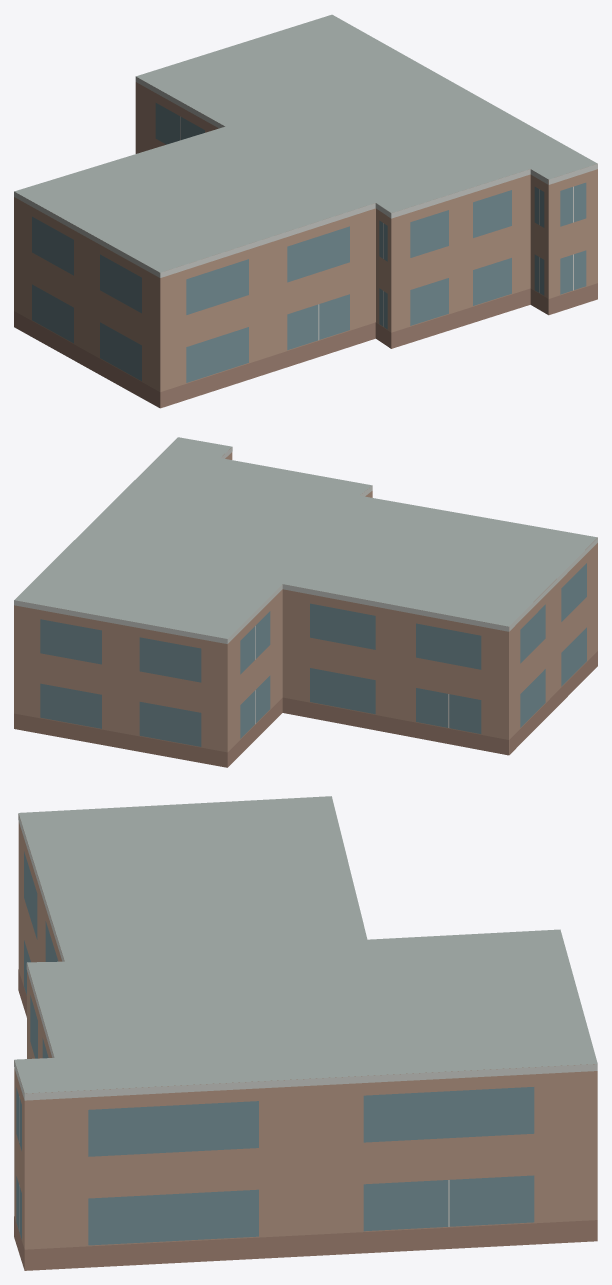
Rendered from survey-upis-32483598.glb.
3 renders of one model, top to bottom at view 1: azimuth 30°, elevation 25°; view 2: azimuth 150°, elevation 25°; view 3: azimuth 270°, elevation 25°, orthographic. The views are drawn at different scales.
Visible parts, largest first — view 1: survey-upis-32483598.tmp; view 2: survey-upis-32483598.tmp; view 3: survey-upis-32483598.tmp.
Boxes of the visible parts, x1=… form: survey-upis-32483598.tmp: x1=14, y1=14, x2=597, y2=408; survey-upis-32483598.tmp: x1=14, y1=437, x2=597, y2=767; survey-upis-32483598.tmp: x1=14, y1=796, x2=597, y2=1270.
Bounding box in the file's own units: 21.95 × 6.1 × 18.21.
